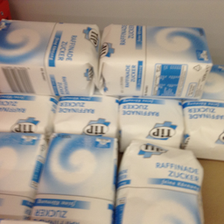tomato_sauce: (97, 23, 213, 98), (31, 133, 118, 224), (120, 137, 206, 224), (1, 18, 98, 95), (1, 132, 45, 224), (188, 61, 224, 158)
